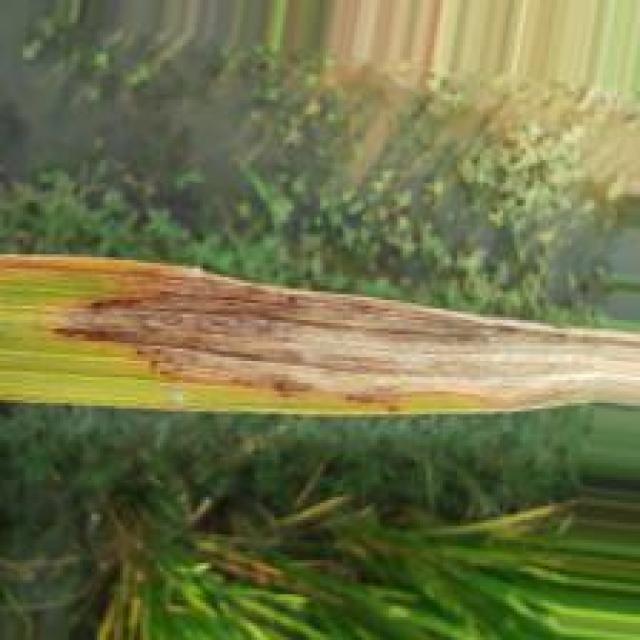Leaf_Scald: (2, 256, 639, 413)
